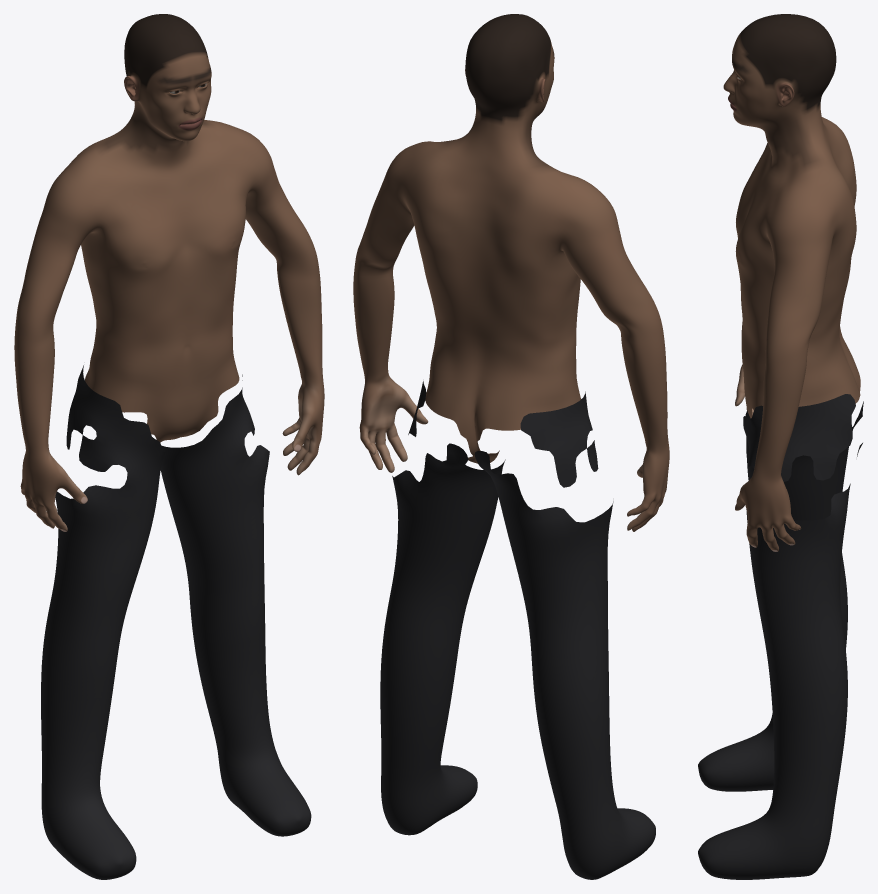
File: m170-stand.glb
3 renders of one model, left to right at view 1: azimuth 30°, elevation 25°; view 2: azimuth 150°, elevation 25°; view 3: azimuth 270°, elevation 25°, orthographic. The views are drawn at different scales.
Parts seen in each view (by area): view 1: skin, jeans; view 2: skin, jeans; view 3: skin, jeans.
Part boxes in pixels (x1,y1,x2,y2): skin: (14, 14, 324, 531); jeans: (41, 365, 311, 879); skin: (353, 14, 669, 531); jeans: (380, 381, 655, 879); skin: (723, 14, 860, 551); jeans: (698, 394, 863, 879).
Bounding box in the file's own units: 0.6667 × 1.73 × 0.3188.
